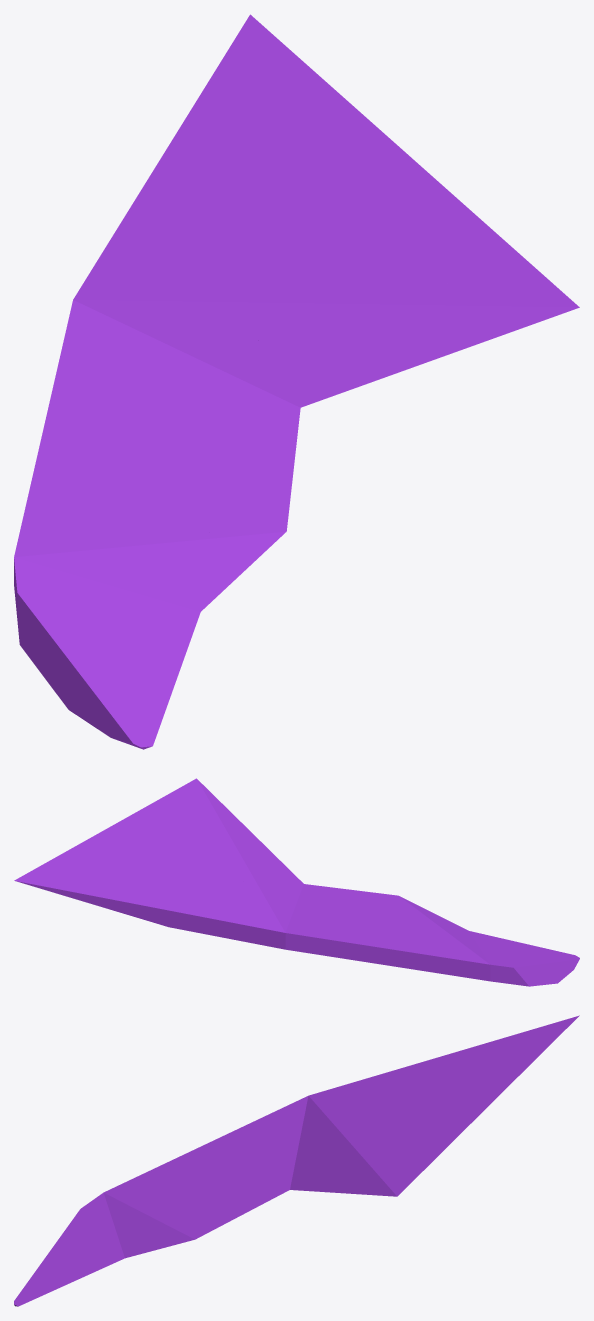
The model's file is Glass_101_3_1_chunks.fbx.
3 views of the same model, one above another, from view 1: azimuth 30°, elevation 25°; view 2: azimuth 150°, elevation 25°; view 3: azimuth 330°, elevation 25° (orthographic). The views are drawn at different scales.
Visible parts, largest first — view 1: Glass_101_3_1_1, Glass_101_3_1_18, Glass_101_3_1_7, Glass_101_3_1_4, Glass_101_3_1_0, Glass_101_3_1_24, Glass_101_3_1_22, Glass_101_3_1_11, Glass_101_3_1_3, Glass_101_3_1_2, Glass_101_3_1_15, Glass_101_3_1_17 (+11 smaller); view 2: Glass_101_3_1_18, Glass_101_3_1_7, Glass_101_3_1_1, Glass_101_3_1_12, Glass_101_3_1_24, Glass_101_3_1_4, Glass_101_3_1_22, Glass_101_3_1_5, Glass_101_3_1_17, Glass_101_3_1_11, Glass_101_3_1_15, Glass_101_3_1_0 (+8 smaller); view 3: Glass_101_3_1_1, Glass_101_3_1_7, Glass_101_3_1_18, Glass_101_3_1_0, Glass_101_3_1_4, Glass_101_3_1_24, Glass_101_3_1_22, Glass_101_3_1_3, Glass_101_3_1_11, Glass_101_3_1_2, Glass_101_3_1_15, Glass_101_3_1_17 (+9 smaller).
Boxes of the visible parts, bbox=[...] form: Glass_101_3_1_1: bbox=[14, 529, 185, 749]; Glass_101_3_1_18: bbox=[145, 14, 328, 235]; Glass_101_3_1_7: bbox=[18, 365, 199, 538]; Glass_101_3_1_4: bbox=[252, 249, 579, 446]; Glass_101_3_1_0: bbox=[77, 498, 246, 653]; Glass_101_3_1_24: bbox=[278, 85, 387, 268]; Glass_101_3_1_22: bbox=[363, 136, 514, 272]; Glass_101_3_1_11: bbox=[67, 284, 208, 365]; Glass_101_3_1_3: bbox=[206, 434, 296, 568]; Glass_101_3_1_2: bbox=[155, 403, 252, 530]; Glass_101_3_1_15: bbox=[231, 204, 320, 340]; Glass_101_3_1_17: bbox=[143, 231, 249, 306]; Glass_101_3_1_18: bbox=[14, 856, 217, 918]; Glass_101_3_1_7: bbox=[308, 908, 475, 976]; Glass_101_3_1_1: bbox=[453, 938, 579, 986]; Glass_101_3_1_12: bbox=[141, 911, 294, 949]; Glass_101_3_1_24: bbox=[58, 838, 214, 870]; Glass_101_3_1_4: bbox=[160, 778, 336, 897]; Glass_101_3_1_22: bbox=[90, 798, 188, 844]; Glass_101_3_1_5: bbox=[288, 925, 422, 970]; Glass_101_3_1_17: bbox=[206, 879, 264, 911]; Glass_101_3_1_11: bbox=[259, 893, 319, 944]; Glass_101_3_1_15: bbox=[168, 857, 273, 887]; Glass_101_3_1_0: bbox=[409, 912, 501, 946]; Glass_101_3_1_1: bbox=[14, 1186, 140, 1306]; Glass_101_3_1_7: bbox=[118, 1134, 285, 1197]; Glass_101_3_1_18: bbox=[376, 1015, 579, 1091]; Glass_101_3_1_0: bbox=[92, 1194, 184, 1272]; Glass_101_3_1_4: bbox=[257, 1160, 433, 1205]; Glass_101_3_1_24: bbox=[380, 1059, 535, 1129]; Glass_101_3_1_22: bbox=[405, 1091, 503, 1161]; Glass_101_3_1_3: bbox=[163, 1191, 260, 1247]; Glass_101_3_1_11: bbox=[274, 1098, 334, 1144]; Glass_101_3_1_2: bbox=[174, 1166, 264, 1221]; Glass_101_3_1_15: bbox=[319, 1097, 425, 1150]; Glass_101_3_1_17: bbox=[329, 1084, 387, 1128].
Size of the model in its own units: 937 by 492 by 1215.
